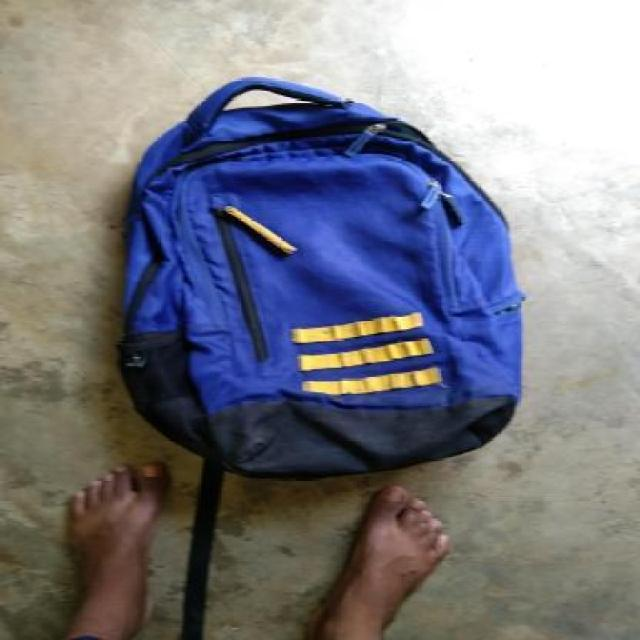backpack: (115, 69, 532, 483)
